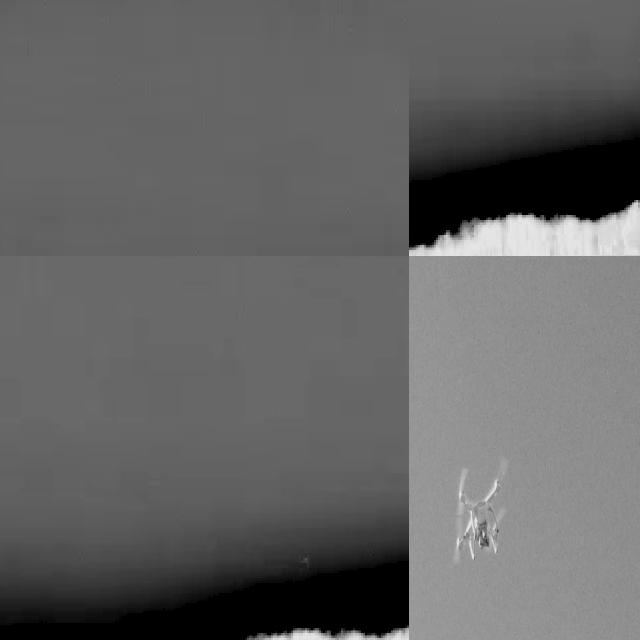0: (289, 546, 319, 578)
drone: (448, 458, 508, 570)
